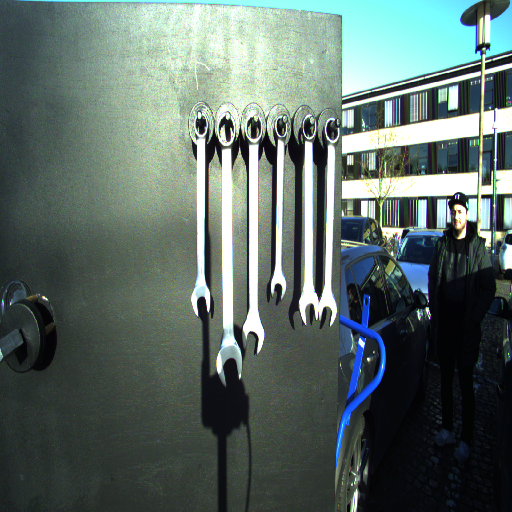bottom: (214, 345, 245, 387), (241, 315, 264, 356), (297, 291, 319, 327), (190, 285, 213, 317), (320, 295, 339, 329), (269, 275, 288, 300)
top: (215, 110, 238, 149), (242, 114, 266, 144), (299, 111, 319, 141), (322, 117, 341, 148), (190, 113, 211, 139), (272, 114, 288, 140)
